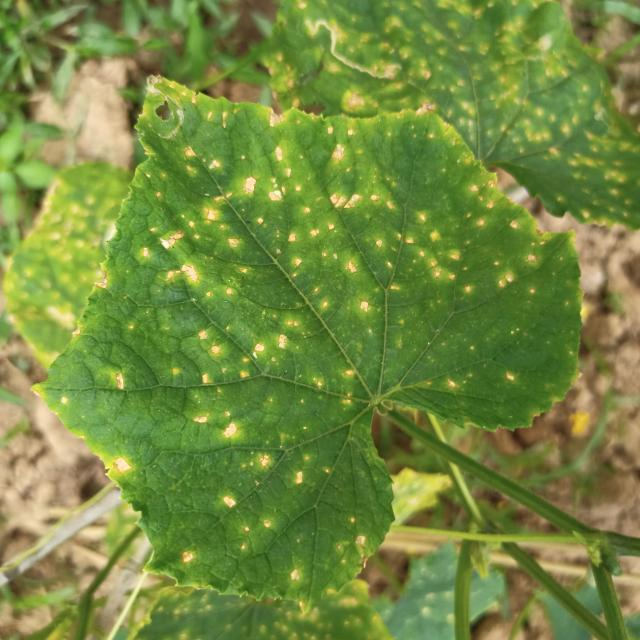disease_cucumber: (56, 110, 572, 406), (168, 405, 368, 588), (108, 446, 138, 480)
